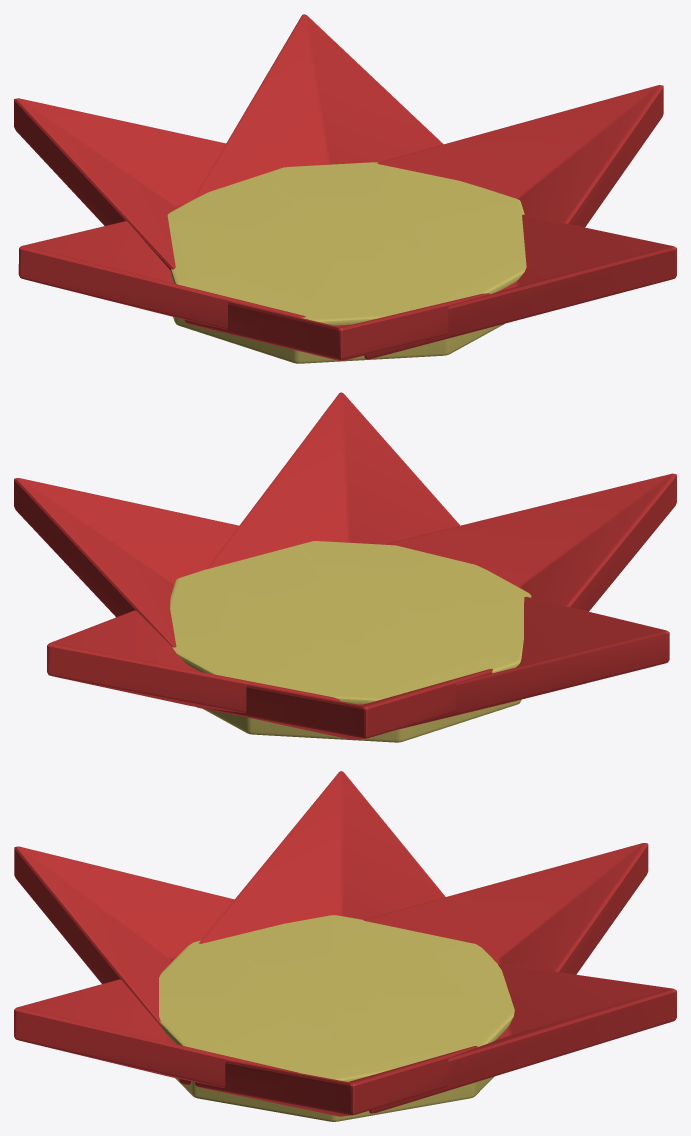
File: CactusFlower.fbx
3 renders of one model, top to bottom at view 1: azimuth 30°, elevation 25°; view 2: azimuth 150°, elevation 25°; view 3: azimuth 270°, elevation 25°, orthographic.
Visible parts, largest first — view 1: FlowerCentre, FlowerLeaf4, FlowerLeaf3, FlowerLeaf5, FlowerLeaf2, FlowerLeaf6, FlowerLeaf1; view 2: FlowerCentre, FlowerLeaf2, FlowerLeaf1, FlowerLeaf3, FlowerLeaf6, FlowerLeaf4, FlowerLeaf5; view 3: FlowerCentre, FlowerLeaf6, FlowerLeaf5, FlowerLeaf1, FlowerLeaf4, FlowerLeaf2, FlowerLeaf3.
Part boxes in pixels (bbox=[...]): FlowerCentre: bbox=[167, 162, 526, 363]; FlowerLeaf4: bbox=[193, 14, 443, 199]; FlowerLeaf3: bbox=[377, 85, 663, 227]; FlowerLeaf5: bbox=[14, 98, 225, 269]; FlowerLeaf2: bbox=[364, 214, 676, 358]; FlowerLeaf6: bbox=[18, 221, 305, 329]; FlowerLeaf1: bbox=[184, 293, 489, 360]; FlowerCentre: bbox=[170, 541, 531, 742]; FlowerLeaf2: bbox=[207, 392, 459, 569]; FlowerLeaf1: bbox=[384, 473, 676, 611]; FlowerLeaf3: bbox=[14, 478, 238, 647]; FlowerLeaf6: bbox=[394, 596, 669, 730]; FlowerLeaf4: bbox=[47, 610, 339, 713]; FlowerLeaf5: bbox=[196, 669, 492, 739]; FlowerCentre: bbox=[159, 915, 514, 1121]; FlowerLeaf6: bbox=[199, 771, 445, 943]; FlowerLeaf5: bbox=[363, 843, 648, 974]; FlowerLeaf1: bbox=[14, 846, 234, 1026]; FlowerLeaf4: bbox=[369, 963, 676, 1113]; FlowerLeaf2: bbox=[14, 979, 298, 1087]; FlowerLeaf3: bbox=[179, 1046, 477, 1116].
Size of the model in its own units: 0.6832 by 0.1137 by 0.6071.
